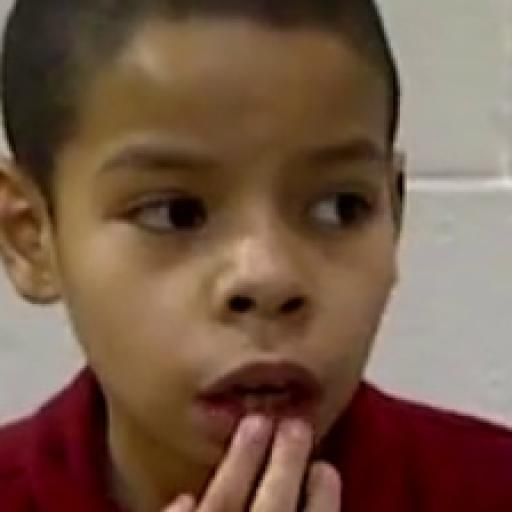Autism: (29, 38, 427, 494)
